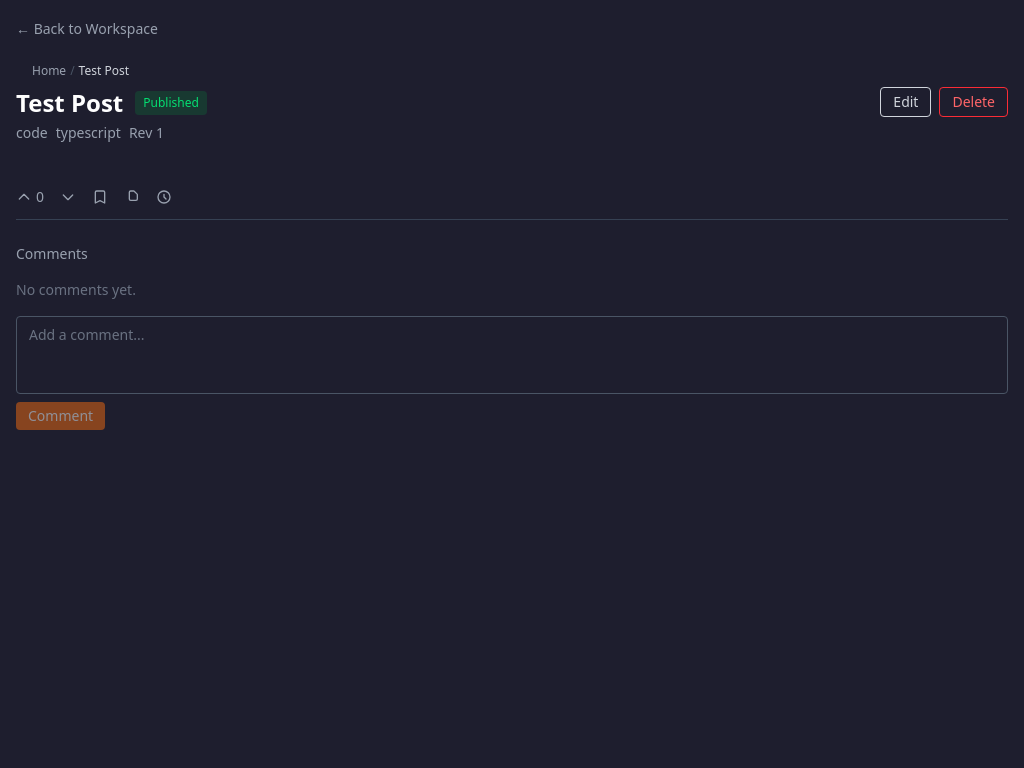
it: PostViewPage › delete action › opens the confirm dialog (does NOT delete) when the delete button is clicked
This screenshot has width=1024, height=768.
Click the button with test id "post-delete-btn": (974, 102) [939, 87, 1008, 117]
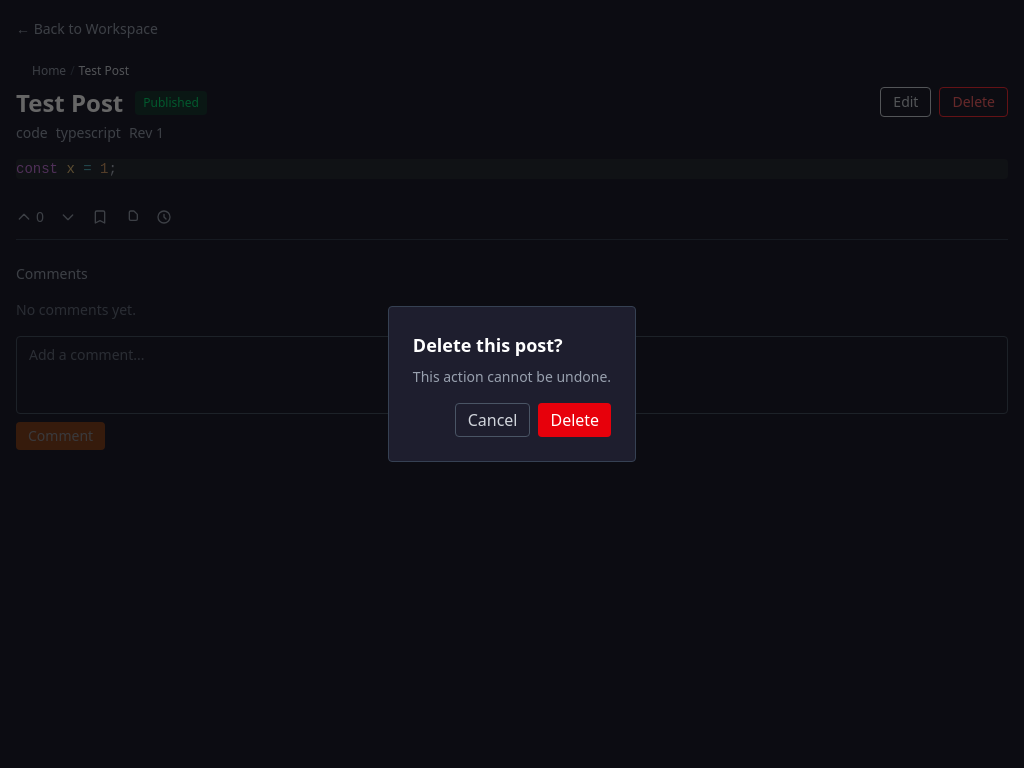
Result: the element with test id "post-delete-dialog" is shown
